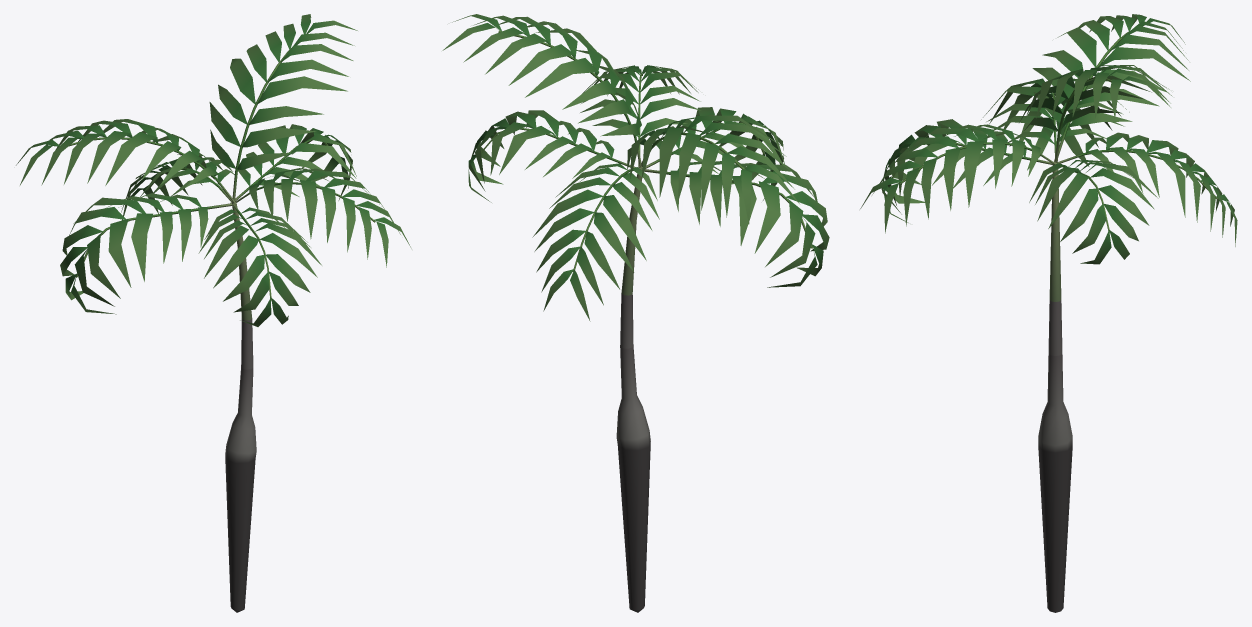
File: trees-palms-ferns-tree-fern_v2.fbx
3 views of the same model, side by side, from view 1: azimuth 30°, elevation 25°; view 2: azimuth 150°, elevation 25°; view 3: azimuth 270°, elevation 25° (orthographic). The views are drawn at different scales.
Parts seen in each view (by area): view 1: Tree Fern_v2; view 2: Tree Fern_v2; view 3: Tree Fern_v2.
Boxes of the visible parts, x1,y1,x2,y2 form: Tree Fern_v2: (16, 14, 411, 612); Tree Fern_v2: (442, 14, 829, 612); Tree Fern_v2: (860, 14, 1237, 612).
Size of the model in its own units: 3.22 by 5 by 2.91.
